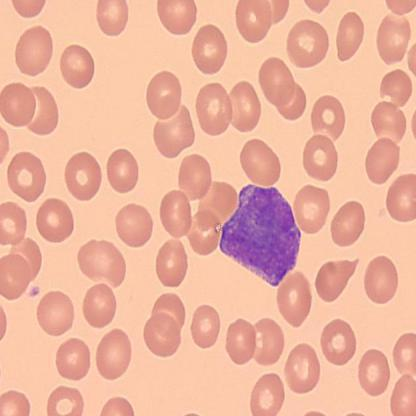Promyelocyte: (219, 184, 302, 286)
